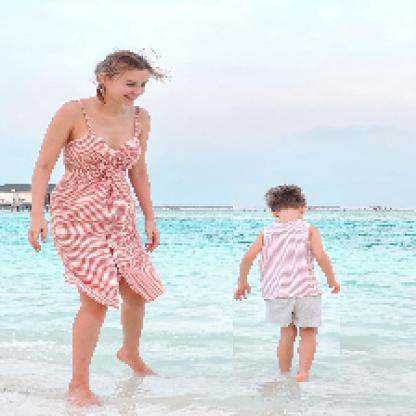child: (234, 184, 342, 384)
